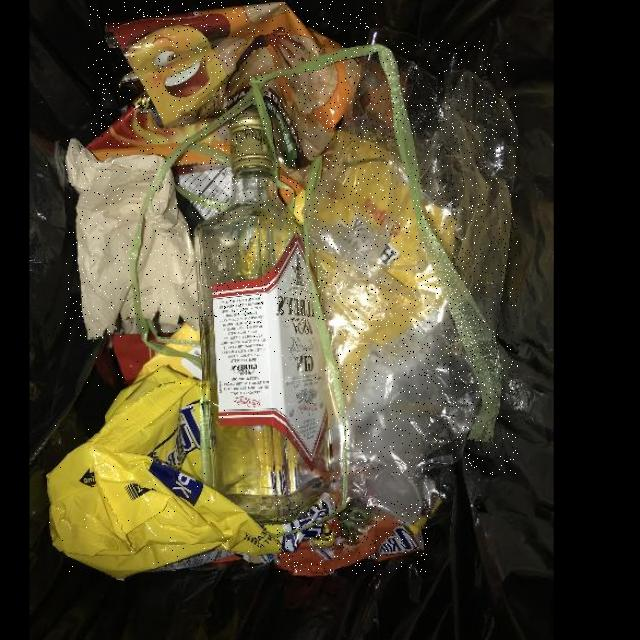glass: (198, 105, 330, 522)
paper: (66, 137, 199, 337)
plastic: (280, 40, 518, 474)
wrapper: (46, 323, 337, 579), (88, 1, 383, 169), (276, 500, 428, 575)
